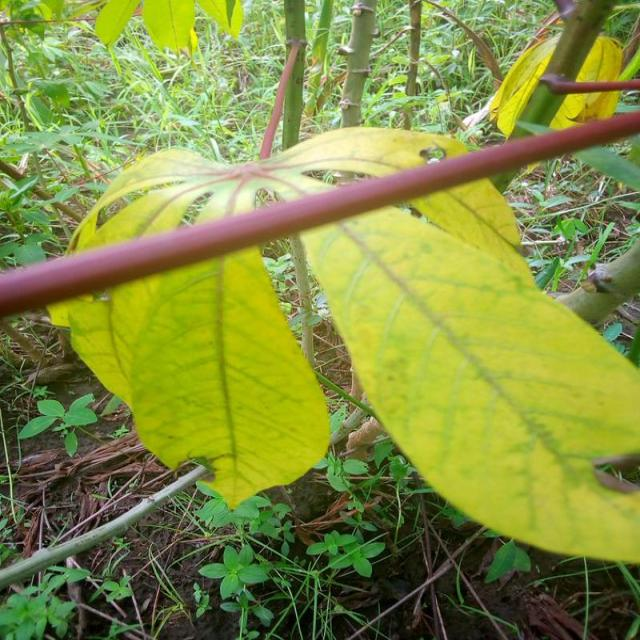cassava leaf: (46, 126, 638, 563), (294, 189, 638, 565), (45, 147, 332, 510)
